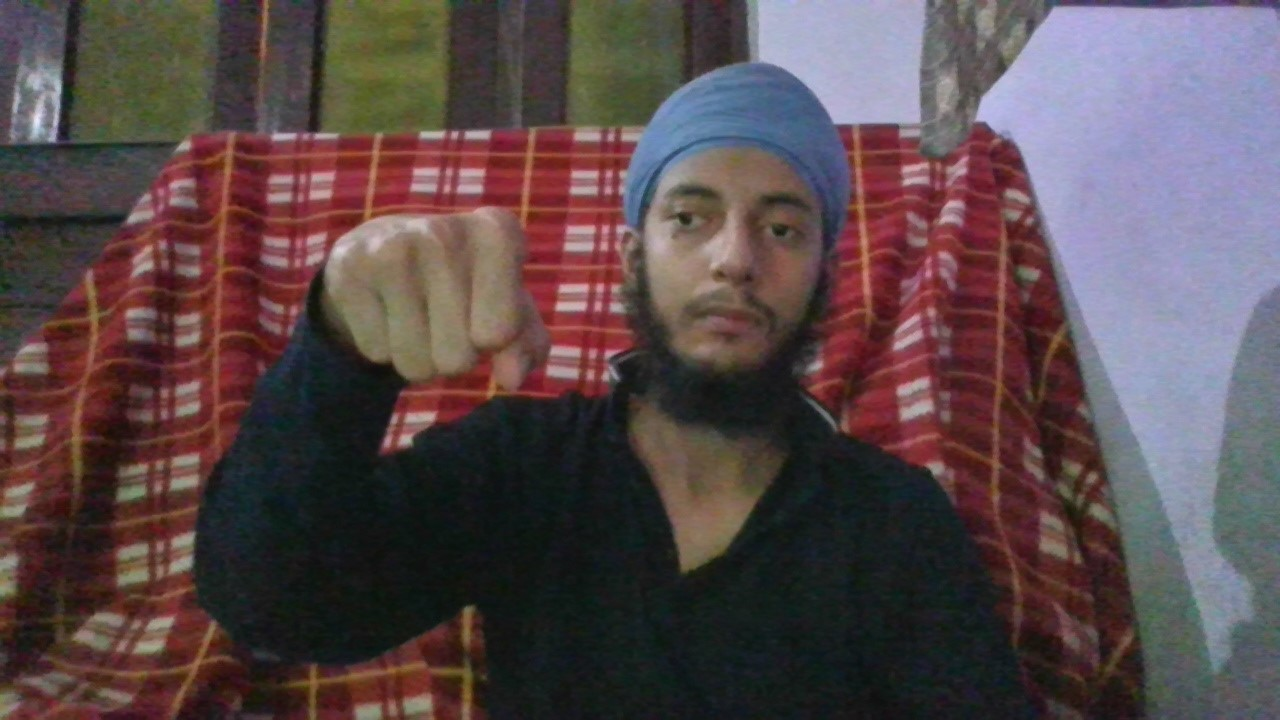Yes: (331, 201, 553, 398)
